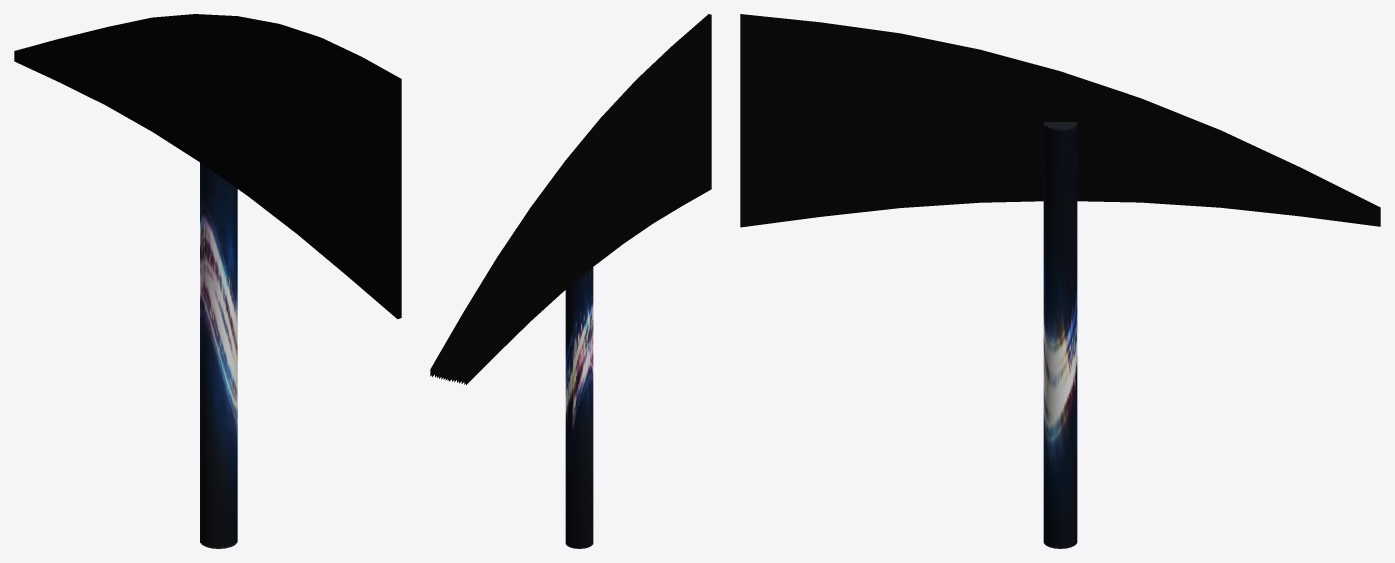
File: pacman_pickaxe.obj
3 views of the same model, side by side, from view 1: azimuth 30°, elevation 25°; view 2: azimuth 150°, elevation 25°; view 3: azimuth 270°, elevation 25° (orthographic). The views are drawn at different scales.
Parts seen in each view (by area): view 1: Plane01, Cylinder16, Plane04, Plane05, Plane08, Plane10, Plane16, Plane14, Plane20, Plane07, Plane18, Plane19 (+2 smaller); view 2: Plane01, Cylinder16, Plane04, Plane08, Plane06, Plane05, Plane10, Plane09, Plane14, Plane15, Plane20, Plane16 (+6 smaller); view 3: Plane12, Cylinder16, Plane07, Plane05, Plane02, Plane09, Plane08, Plane06, Plane01.
Boxes of the visible parts, box(x1,y1,x2,y2) form: Plane01: box(14, 24, 397, 318); Cylinder16: box(200, 162, 237, 548); Plane04: box(105, 14, 401, 317); Plane05: box(67, 23, 397, 318); Plane08: box(78, 21, 398, 318); Plane10: box(88, 19, 398, 318); Plane16: box(93, 17, 399, 318); Plane14: box(92, 18, 399, 318); Plane20: box(109, 15, 400, 317); Plane07: box(82, 21, 398, 318); Plane18: box(102, 16, 400, 317); Plane19: box(100, 16, 400, 317); Plane01: box(466, 15, 711, 384); Cylinder16: box(565, 267, 593, 548); Plane04: box(432, 14, 708, 376); Plane08: box(454, 15, 710, 381); Plane06: box(459, 15, 710, 383); Plane05: box(461, 15, 710, 383); Plane10: box(449, 16, 708, 381); Plane09: box(452, 15, 709, 381); Plane14: box(445, 15, 709, 380); Plane15: box(443, 16, 707, 379); Plane20: box(435, 14, 708, 377); Plane16: box(441, 14, 709, 379); Plane12: box(740, 14, 1380, 227); Cylinder16: box(1043, 122, 1077, 548); Plane07: box(741, 14, 1380, 214); Plane05: box(745, 14, 1380, 211); Plane02: box(740, 14, 1380, 209); Plane09: box(742, 14, 1380, 216); Plane08: box(743, 14, 1380, 215); Plane06: box(742, 14, 1380, 212); Plane01: box(741, 14, 1380, 208).
Bounding box in the file's own units: 8.01 × 92.91 × 102.
2 materials, 2 textured.
